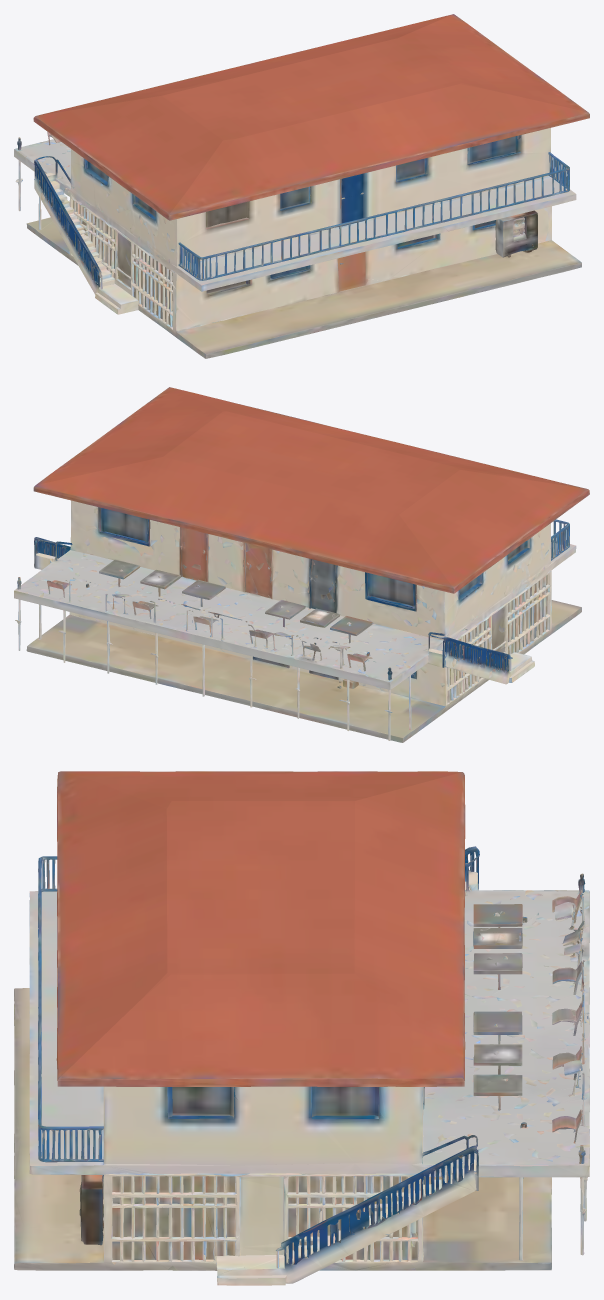
Rendered from motel-strip.glb.
The picture shows the model from 3 angles, top to bottom: view 1: azimuth 30°, elevation 25°; view 2: azimuth 150°, elevation 25°; view 3: azimuth 270°, elevation 25°; orthographic projection. The views are drawn at different scales.
Parts seen in each view (by area): view 1: geometry_0; view 2: geometry_0; view 3: geometry_0.
Boxes of the visible parts, left/top/right/bottom form: geometry_0: left=14, top=14, right=589, bottom=358; geometry_0: left=14, top=387, right=589, bottom=742; geometry_0: left=14, top=771, right=589, bottom=1285.
Bounding box in the file's own units: 1 × 0.3729 × 0.7916.
1 material, 1 textured.
